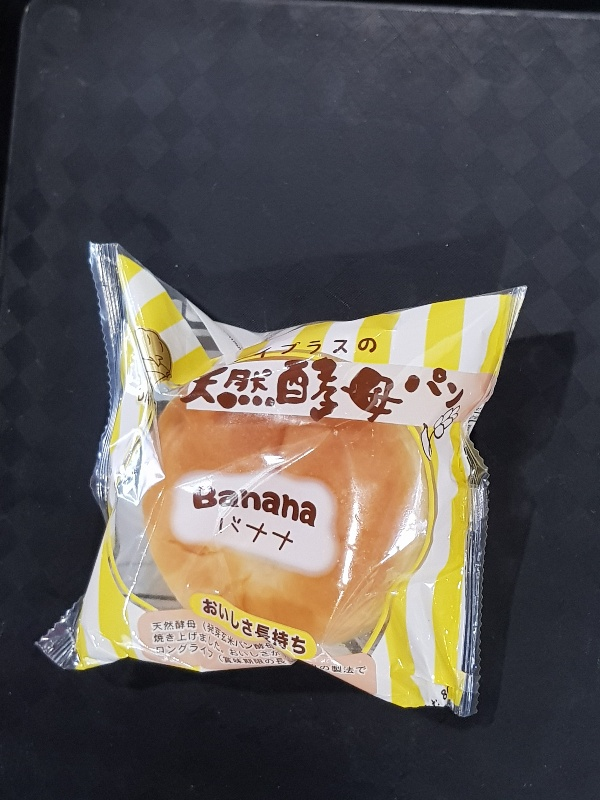Dayplus Banana: (33, 237, 527, 717)
